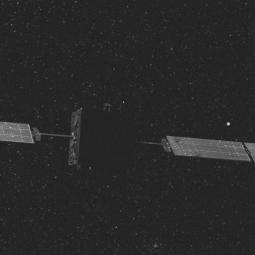smart_1: (47, 105, 195, 185)
